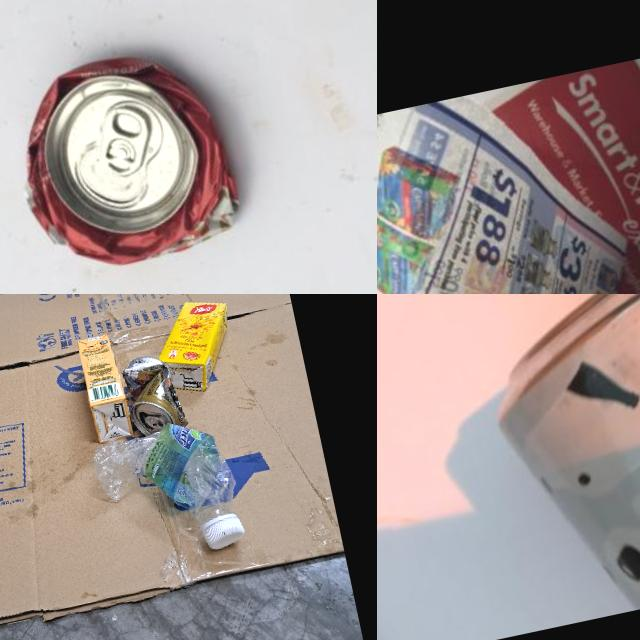aba de lata: (88, 87, 162, 185), (144, 412, 166, 432)
caixinha: (148, 294, 242, 398), (76, 332, 134, 442)
garrafa plástica: (89, 412, 242, 540)
lata: (0, 35, 251, 280), (473, 294, 640, 628), (120, 350, 188, 438)
papel: (377, 19, 640, 294)
papelão: (0, 294, 346, 640)
tampa plástica: (200, 515, 247, 551)
